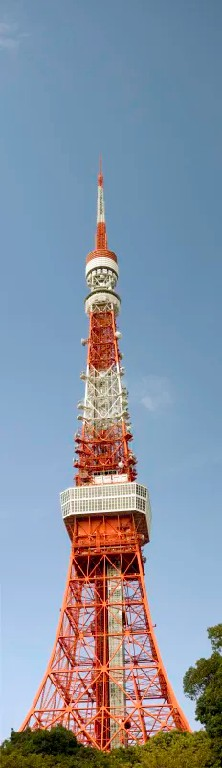Tokyo: (20, 149, 194, 737)
